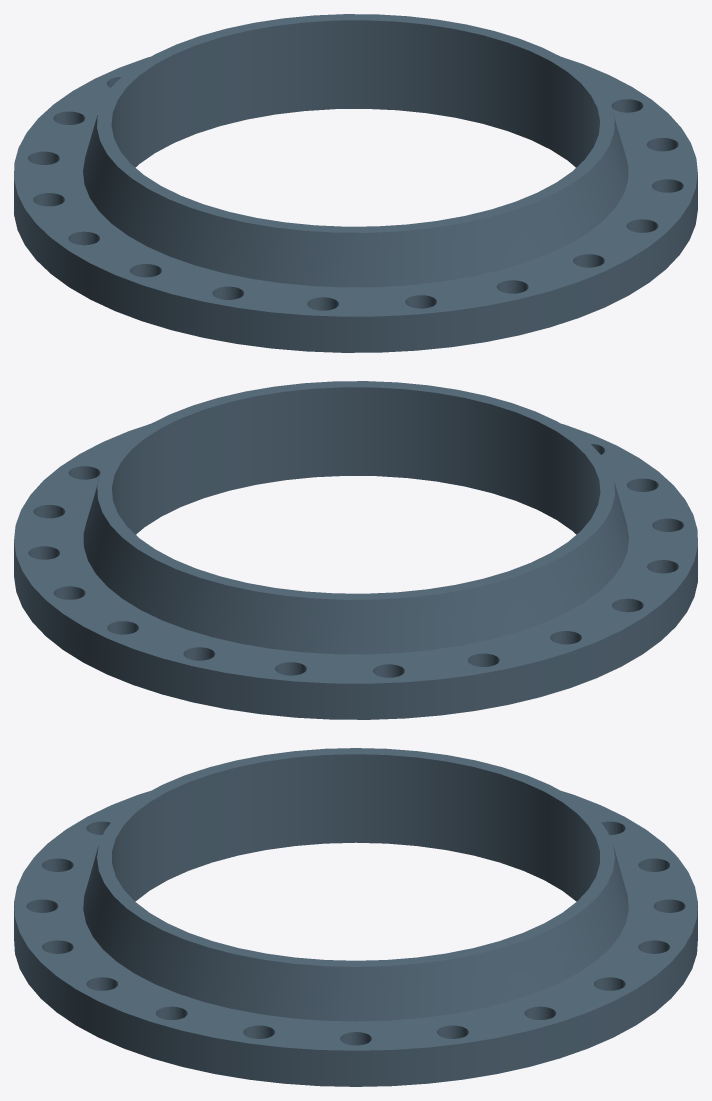
The model's file is flanec-vorotnikovyj-DN600-PN25.glb.
The picture shows the model from 3 angles, top to bottom: view 1: azimuth 30°, elevation 25°; view 2: azimuth 150°, elevation 25°; view 3: azimuth 270°, elevation 25°; orthographic projection.
Visible parts, largest first — view 1: Open CASCADE STEP translator 7.9 107; view 2: Open CASCADE STEP translator 7.9 107; view 3: Open CASCADE STEP translator 7.9 107.
Part boxes in pixels (x1,y1,x2,y2): Open CASCADE STEP translator 7.9 107: [14, 14, 697, 352]; Open CASCADE STEP translator 7.9 107: [14, 381, 697, 719]; Open CASCADE STEP translator 7.9 107: [14, 748, 697, 1086].
Bounding box in the file's own units: 839 × 120 × 840.
